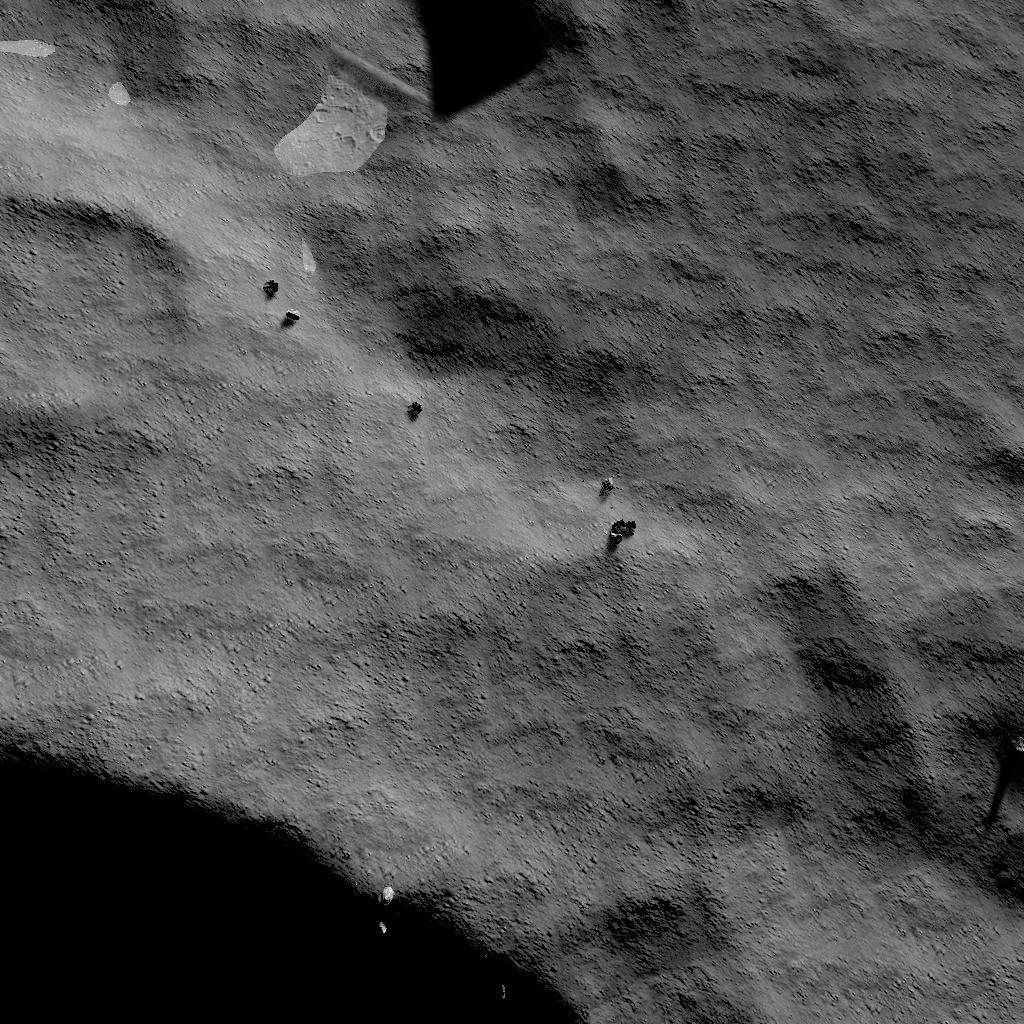Crater: (0, 726, 597, 1024), (296, 0, 572, 200), (0, 184, 200, 450)
Plan surface: (610, 2, 1024, 476), (648, 521, 974, 1024), (0, 518, 567, 706)
